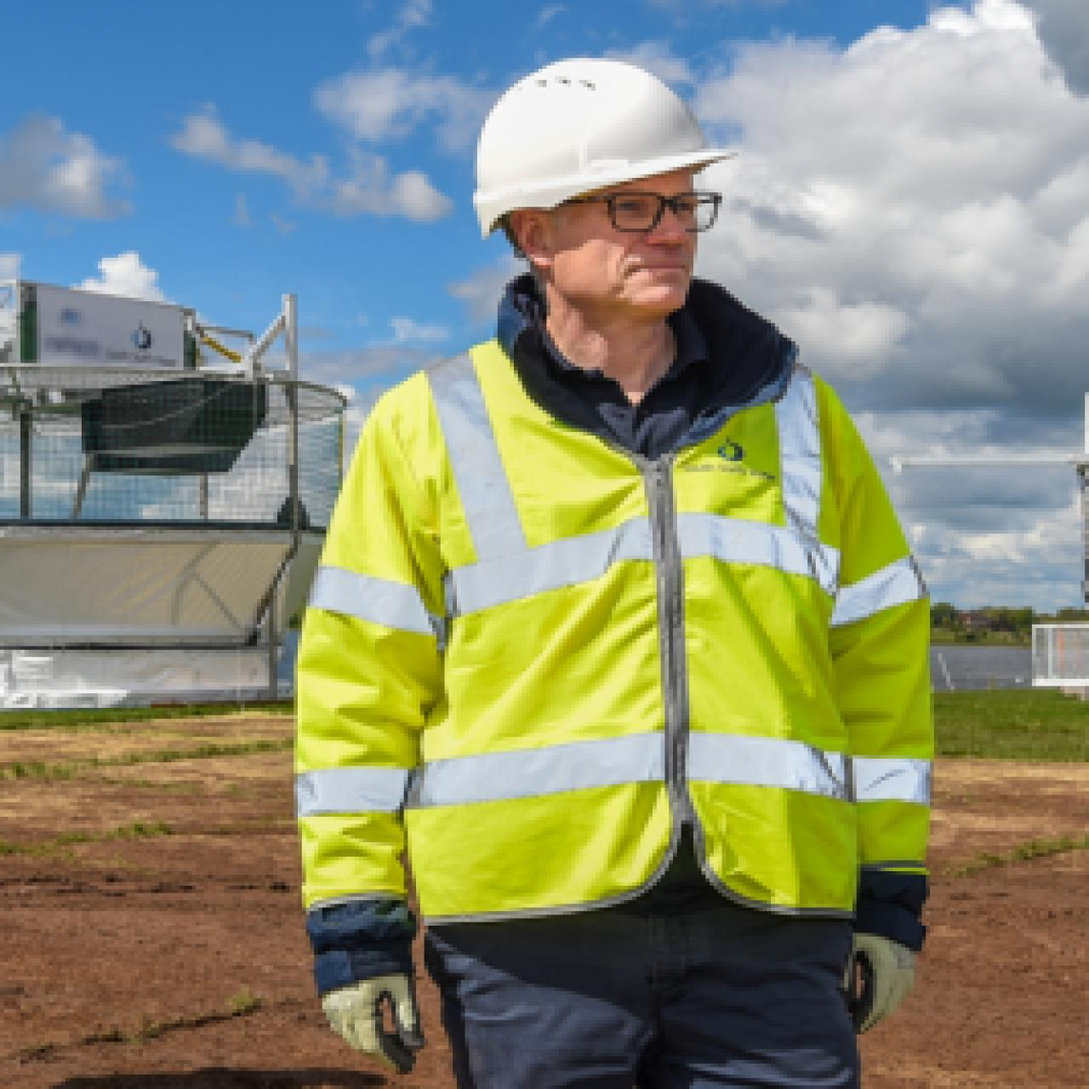NO_Safety_Vest: (312, 303, 936, 939)
Person: (224, 21, 966, 1089)
